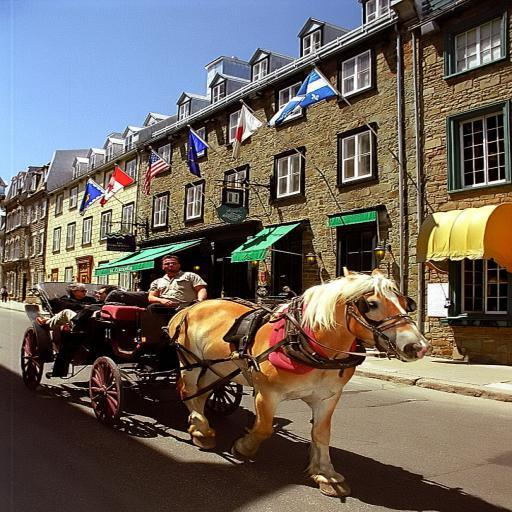horse: (170, 264, 432, 498)
